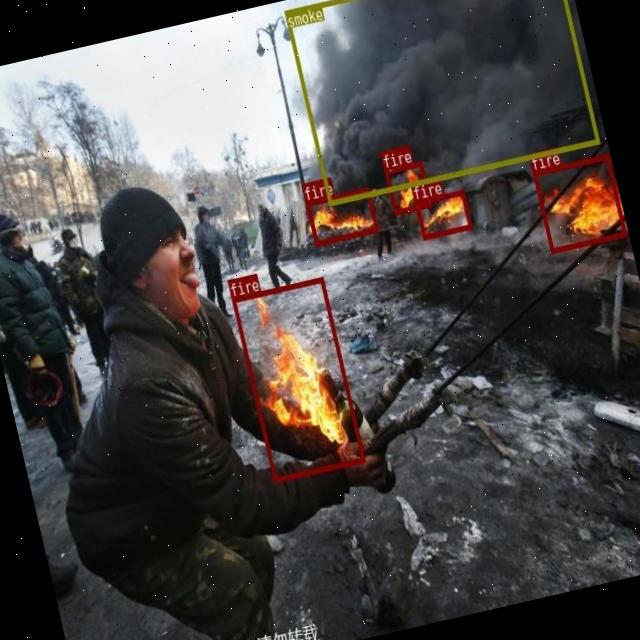fire: (230, 276, 364, 482), (532, 154, 626, 252), (304, 186, 378, 246), (413, 189, 471, 239), (384, 160, 431, 213)
smoke: (283, 0, 598, 204)
